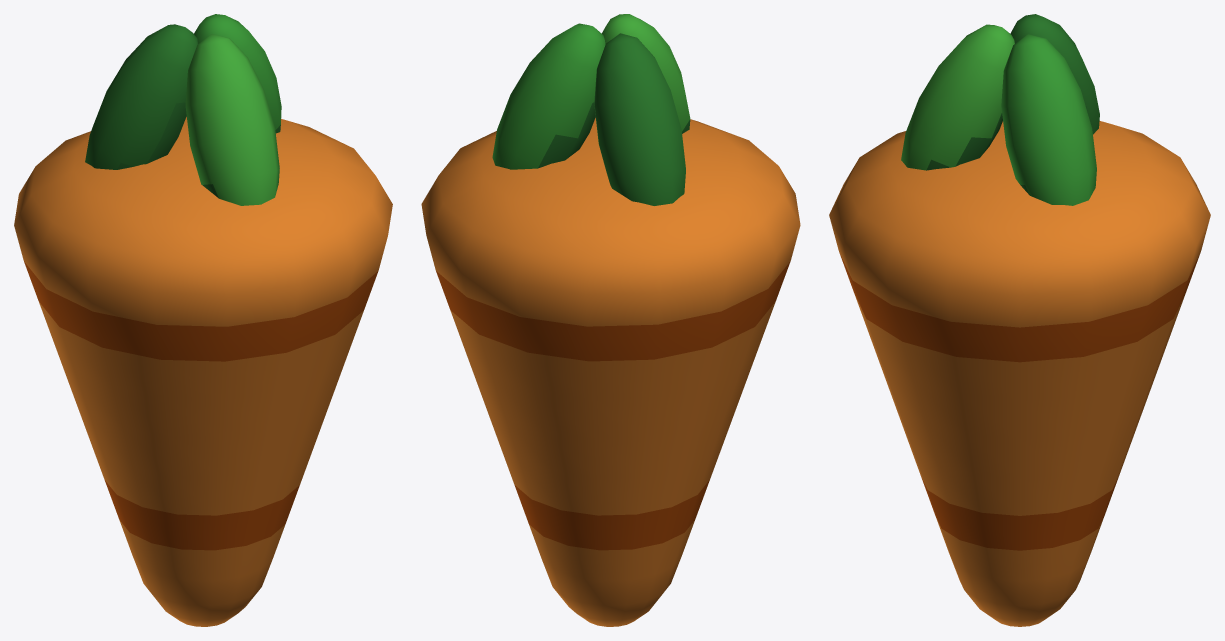
File: Carrot.glb
The picture shows the model from 3 angles, left to right: view 1: azimuth 30°, elevation 25°; view 2: azimuth 150°, elevation 25°; view 3: azimuth 270°, elevation 25°; orthographic projection.
Visible parts, largest first — view 1: Carrot; view 2: Carrot; view 3: Carrot.
Boxes of the visible parts, left/top/right/bottom form: Carrot: left=14, top=14, right=392, bottom=626; Carrot: left=421, top=14, right=800, bottom=626; Carrot: left=829, top=14, right=1210, bottom=626.
Size of the model in its own units: 0.4519 by 0.7743 by 0.4519.
